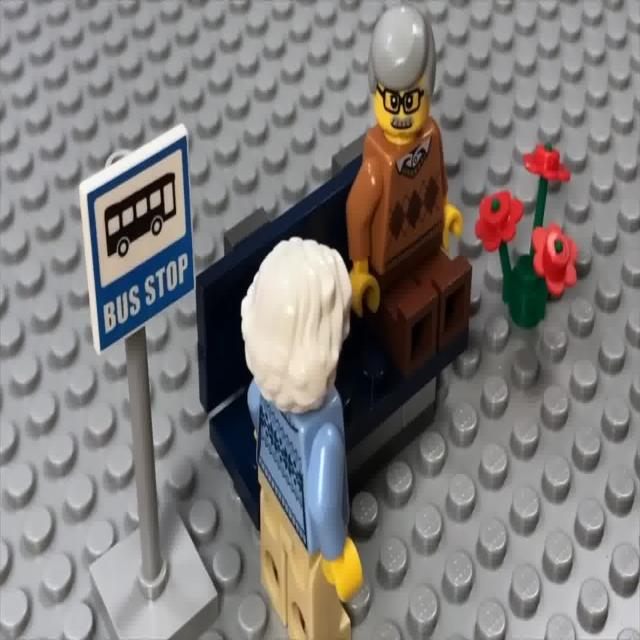4: (331, 1, 490, 395), (311, 434, 369, 618), (342, 153, 389, 313), (437, 195, 464, 251)
figure: (197, 161, 362, 424), (213, 391, 256, 511)
hand: (247, 243, 366, 639)
